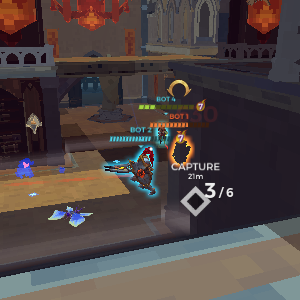model: (169, 135, 193, 170)
